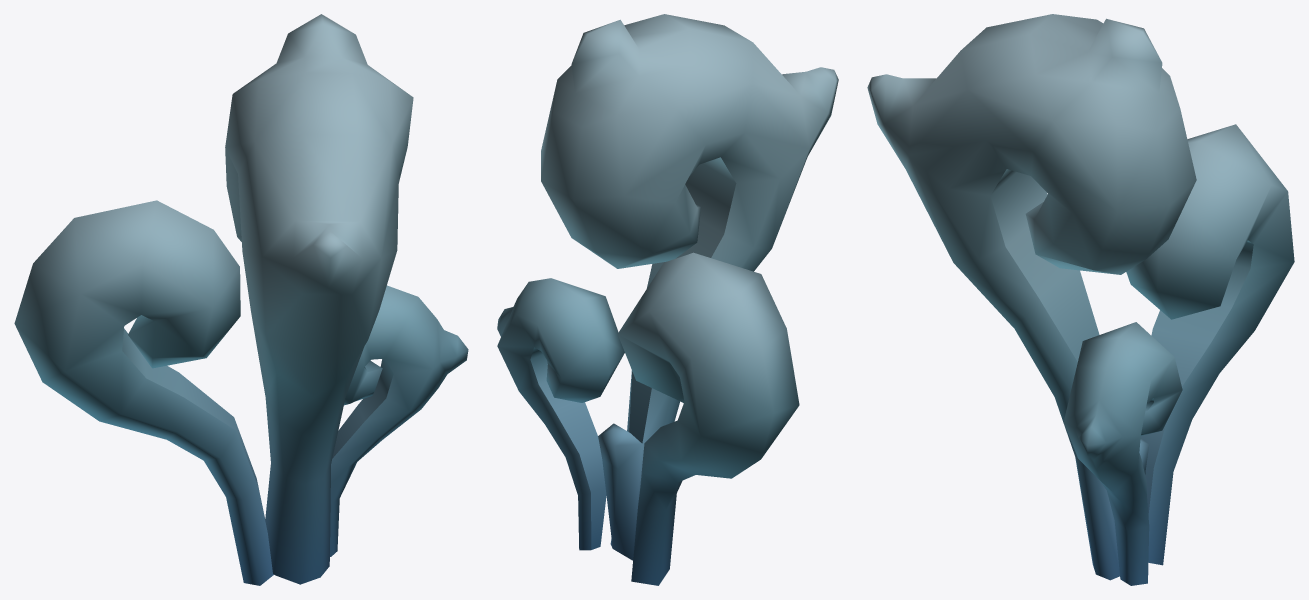
The model's file is prop-nom_lichen_1.glb.
The picture shows the model from 3 angles, left to right: view 1: azimuth 30°, elevation 25°; view 2: azimuth 150°, elevation 25°; view 3: azimuth 270°, elevation 25°; orthographic projection. The views are drawn at different scales.
Parts seen in each view (by area): view 1: prop-nom_lichen_1; view 2: prop-nom_lichen_1; view 3: prop-nom_lichen_1.
Boxes of the visible parts, x1,y1,x2,y2 form: prop-nom_lichen_1: (14,14,468,585); prop-nom_lichen_1: (497,14,838,585); prop-nom_lichen_1: (867,14,1294,585).
Bounding box in the file's own units: 3.02 × 4.35 × 2.94.
